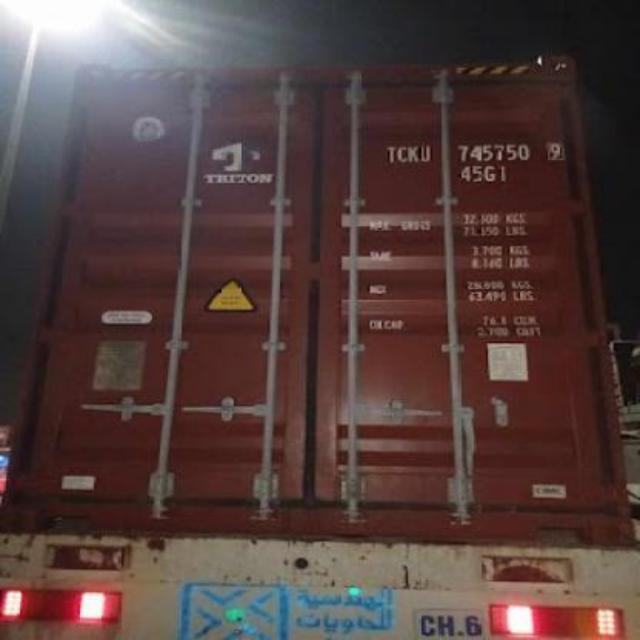0: (518, 138, 534, 166)
4: (468, 136, 482, 164)
5: (504, 136, 516, 164), (482, 139, 494, 165)
7: (454, 136, 470, 166), (492, 140, 504, 162)
9: (548, 138, 564, 162)
C: (396, 140, 408, 170)
K: (408, 134, 420, 166)
T: (382, 138, 398, 168)
U: (418, 142, 434, 166)
